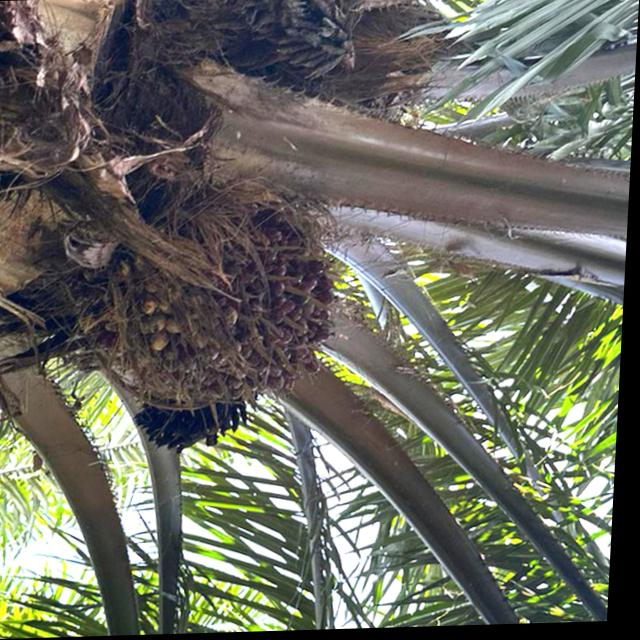ripe: (101, 172, 359, 422)
